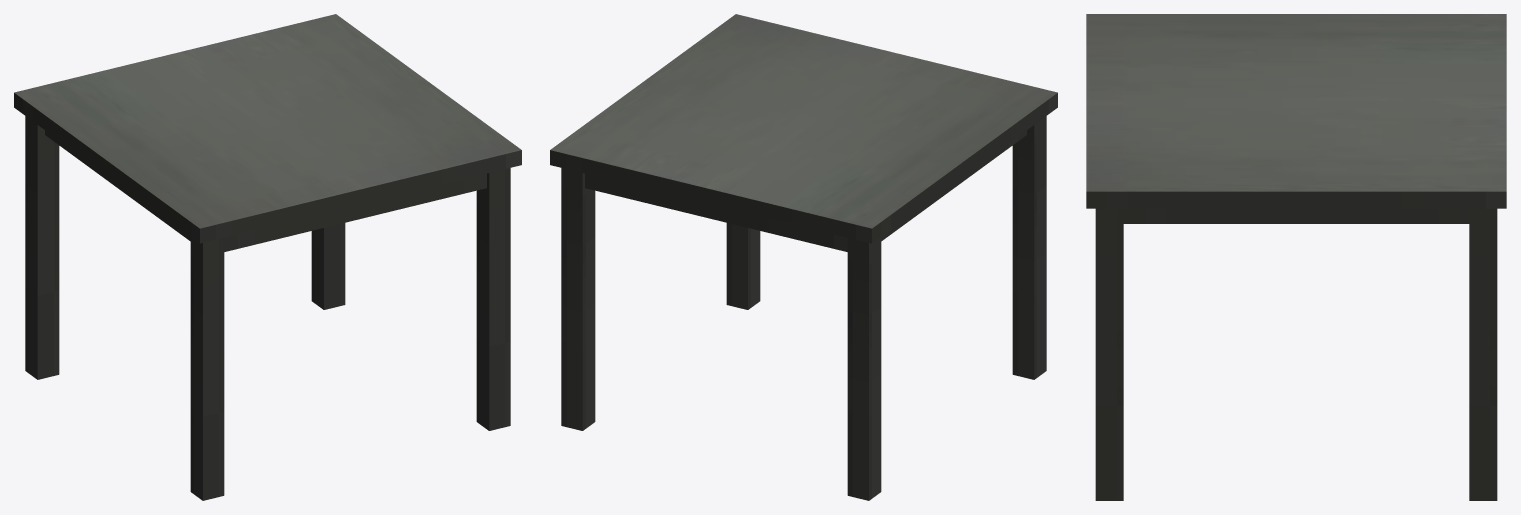
File: ikea_bjursta.dae
3 renders of one model, left to right at view 1: azimuth 30°, elevation 25°; view 2: azimuth 150°, elevation 25°; view 3: azimuth 270°, elevation 25°, orthographic. The views are drawn at different scales.
Parts seen in each view (by area): view 1: Group3, pied_table3, pied_table2, pied_table4, Group2, az1, pied_table1, cache_sous_table1; view 2: Group3, pied_table4, pied_table1, pied_table3, Group2, az2, pied_table2, cache_sous_table1; view 3: Group3, pied_table1, pied_table2, cache_sous_table2, Group2.
Boxes of the visible parts, x1,y1,x2,y2 form: Group3: [14, 14, 521, 235]; pied_table3: [190, 237, 224, 500]; pied_table2: [476, 168, 510, 430]; pied_table4: [25, 116, 59, 379]; Group2: [14, 100, 521, 243]; az1: [224, 173, 486, 251]; pied_table1: [311, 223, 345, 309]; cache_sous_table1: [45, 130, 190, 241]; Group3: [550, 14, 1057, 235]; pied_table4: [847, 237, 881, 500]; pied_table1: [561, 168, 595, 430]; pied_table3: [1012, 116, 1046, 379]; Group2: [550, 100, 1057, 243]; az2: [585, 173, 847, 251]; pied_table2: [726, 223, 760, 309]; cache_sous_table1: [881, 130, 1026, 241]; Group3: [1086, 14, 1506, 199]; pied_table1: [1469, 208, 1497, 500]; pied_table2: [1095, 208, 1123, 500]; cache_sous_table2: [1123, 208, 1469, 223]; Group2: [1086, 200, 1506, 208].
Bounding box in the file's own units: 90 × 90 × 74.
